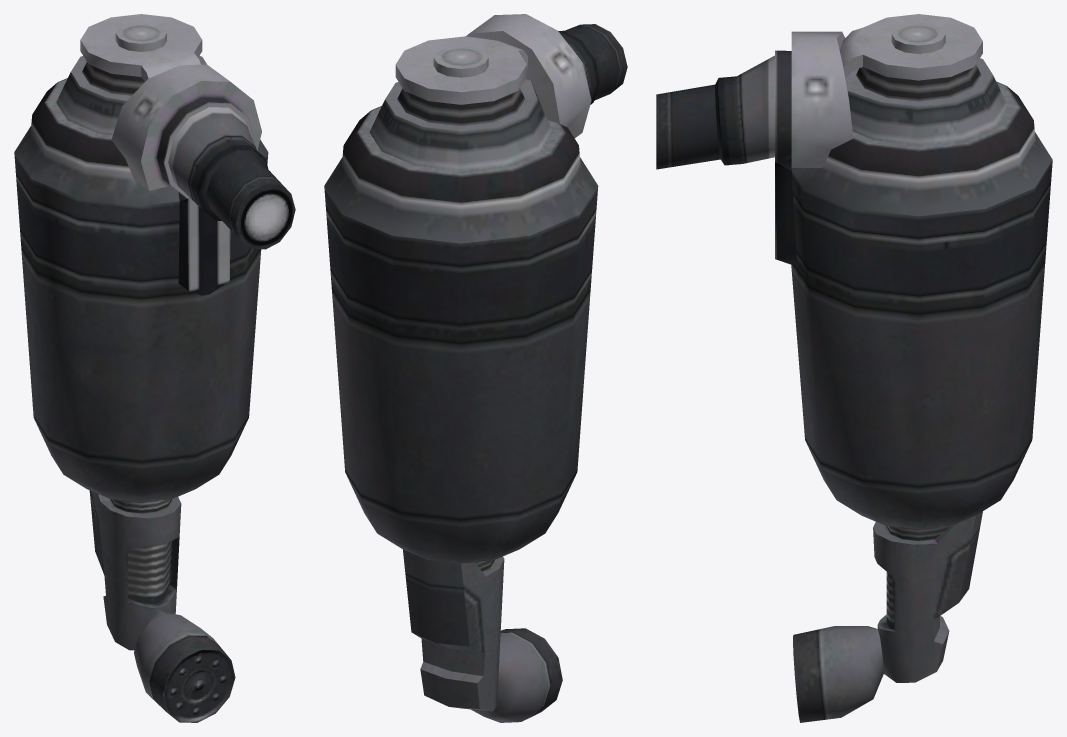
Rendered from eqp_tool_starship_paint_kit_l0.fbx.
3 views of the same model, side by side, from view 1: azimuth 30°, elevation 25°; view 2: azimuth 150°, elevation 25°; view 3: azimuth 270°, elevation 25° (orthographic). The views are drawn at different scales.
Parts seen in each view (by area): view 1: mesh_node; view 2: mesh_node; view 3: mesh_node.
Boxes of the visible parts, x1,y1,x2,y2 form: mesh_node: [14, 14, 295, 722]; mesh_node: [324, 14, 627, 722]; mesh_node: [656, 14, 1052, 722].
Size of the model in its own units: 0.3549 by 1 by 0.5248.
Materials: 1 (1 with a texture image).
